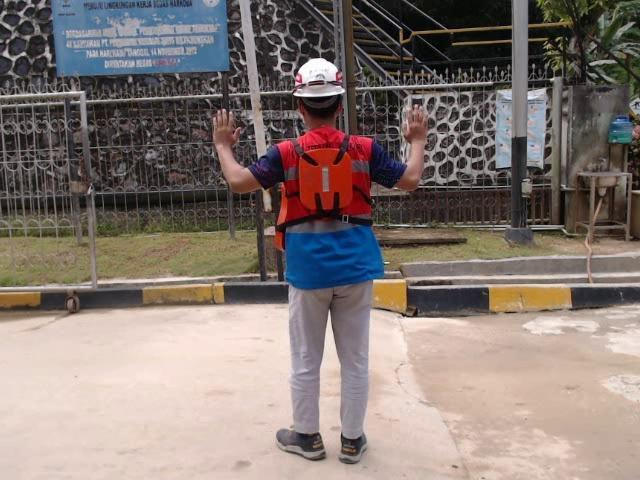vest: (292, 141, 364, 218)
